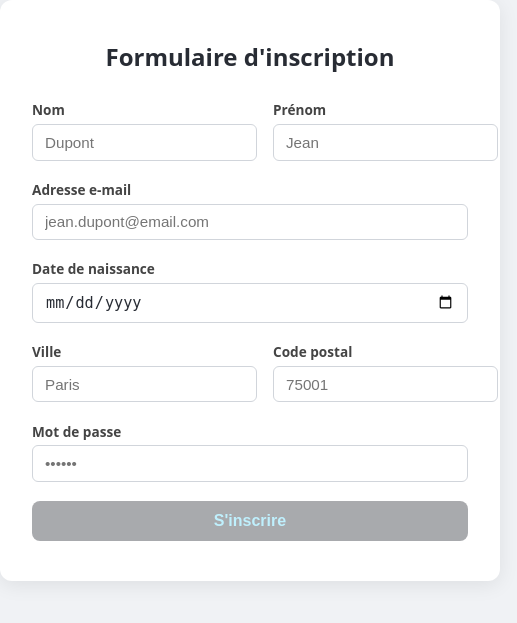
shows a red error when the person is under 18 after blur
Step 1. Type "2015-01-01" into the date field labelled "Date de naissance" → [250, 303], box [32,283,468,323]
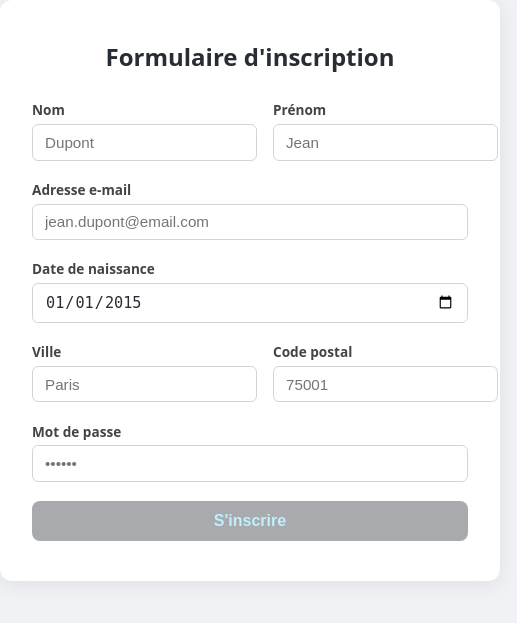
Step 2. Leave the date field labelled "Date de naissance", box [32,283,468,323]
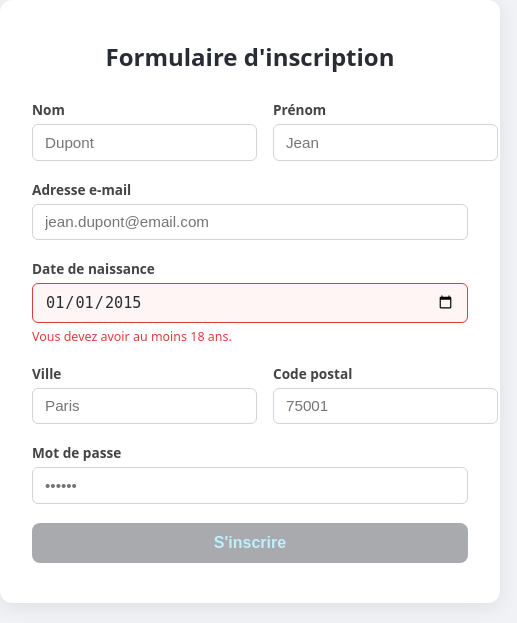
Check: the text "Vous devez avoir au moins 18 ans." is shown, box [32,328,232,344]
